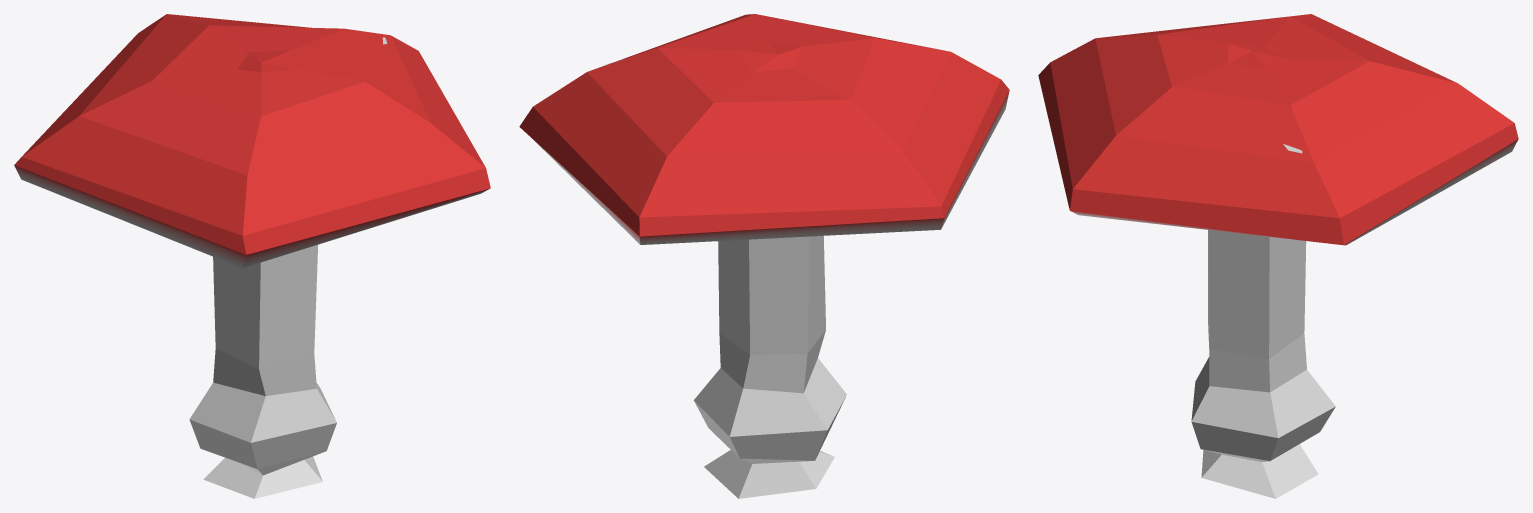
The model's file is mushroom.fbx.
The picture shows the model from 3 angles, left to right: view 1: azimuth 30°, elevation 25°; view 2: azimuth 150°, elevation 25°; view 3: azimuth 270°, elevation 25°; orthographic projection.
Parts seen in each view (by area): view 1: Circle.001; view 2: Circle.001; view 3: Circle.001.
Boxes of the visible parts, x1,y1,x2,y2 form: Circle.001: [14, 14, 490, 498]; Circle.001: [519, 14, 1009, 498]; Circle.001: [1038, 14, 1518, 498].
Bounding box in the file's own units: 159 × 153 × 158.
